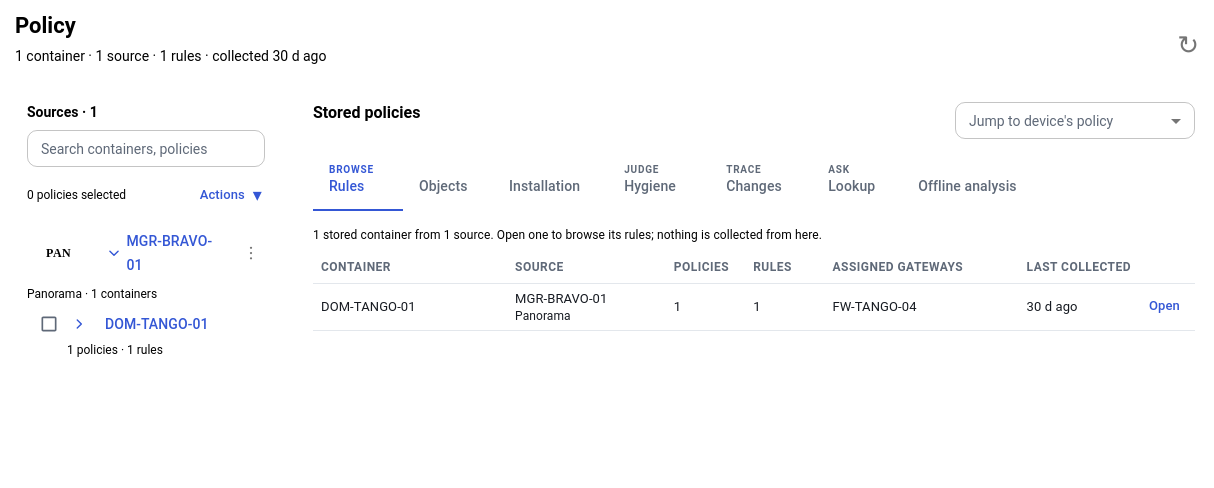
Test: queues Panorama node collection with opaque intent and hides DG-specific actions
The width and height of the screenshot is (1214, 488).
What coordinates should you click on to do the following:
click the button "DOM-TANGO-01"
I would click on:
 (140, 324)
Its box is [63, 306, 216, 342].
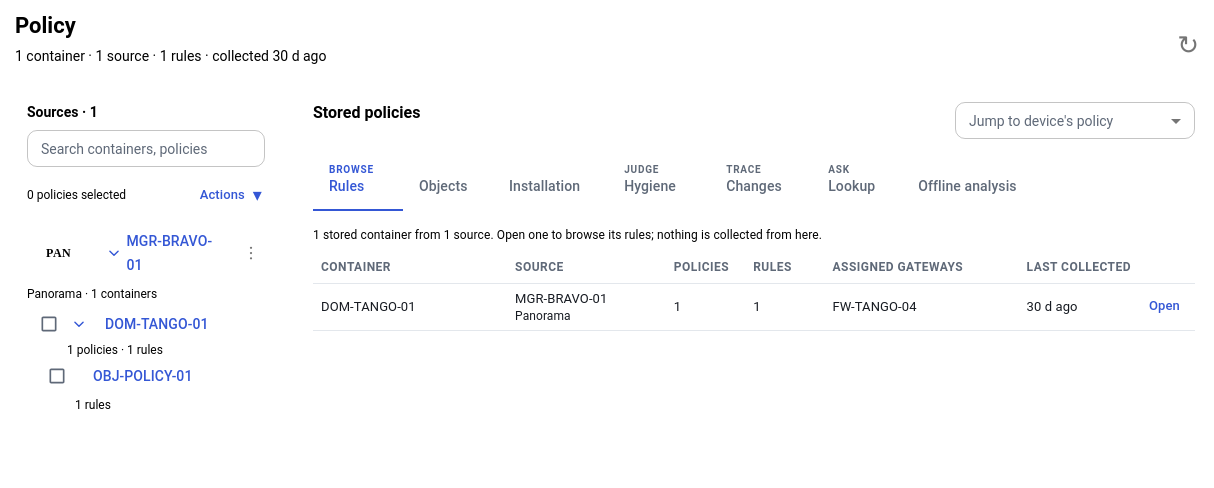
What coordinates should you click on to do the following:
click the button "OBJ-POLICY-01"
I would click on:
 (168, 376)
Its box is [71, 358, 265, 395].
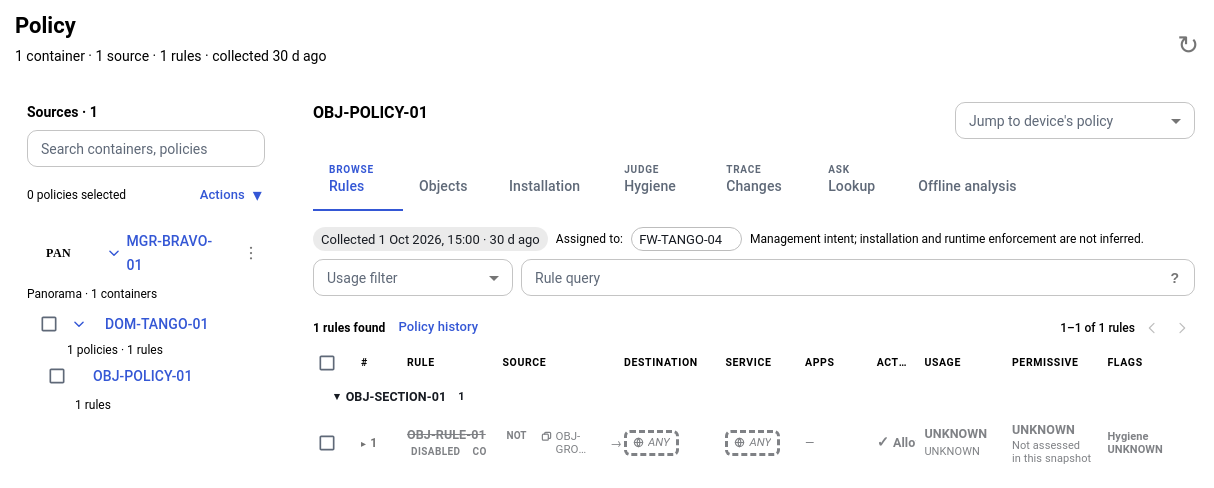
Check: the element named "Policy rulebase" is shown, box [313, 347, 1195, 471]
What coordinates should you click on to do the following:
click the button named "Collection actions for "
I would click on:
 (251, 253)
Its box is [237, 239, 265, 267].
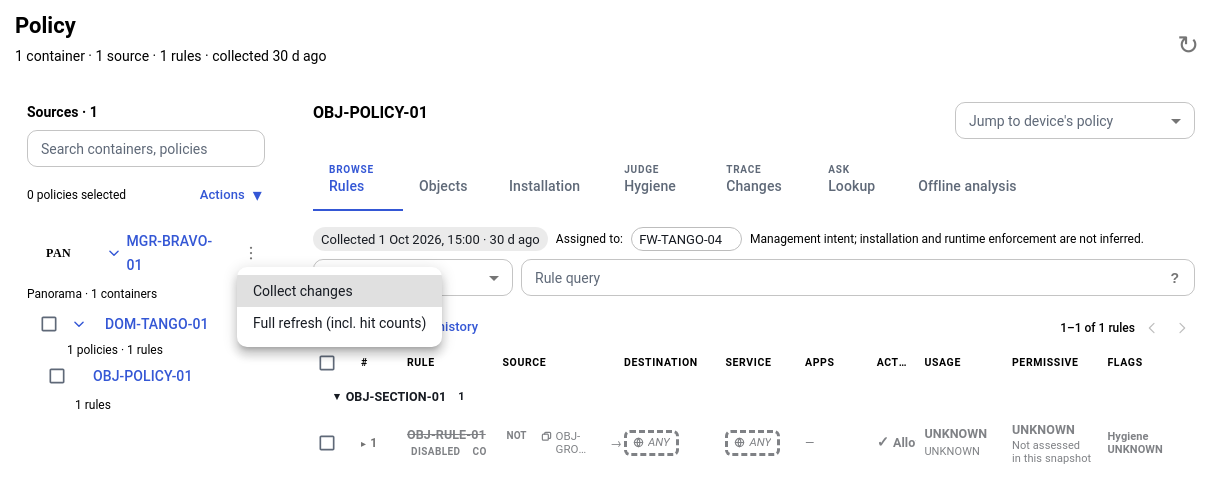
What coordinates should you click on to do the following:
click the menu item "Collect changes"
I would click on:
 (340, 291)
Its box is [237, 275, 442, 307].
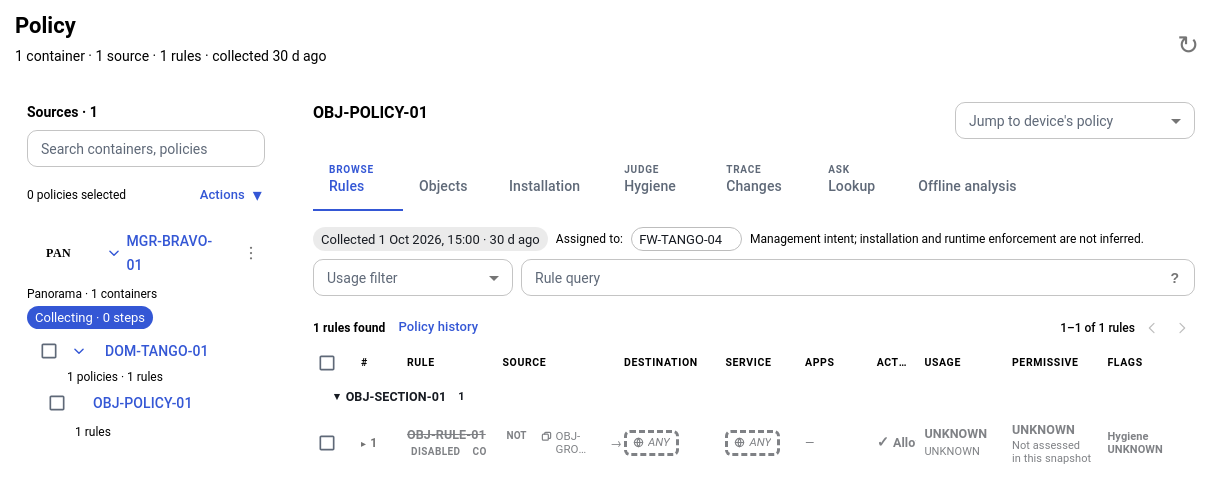
Check: the text "Collecting · 0 steps" is shown, box [27, 306, 153, 329]
